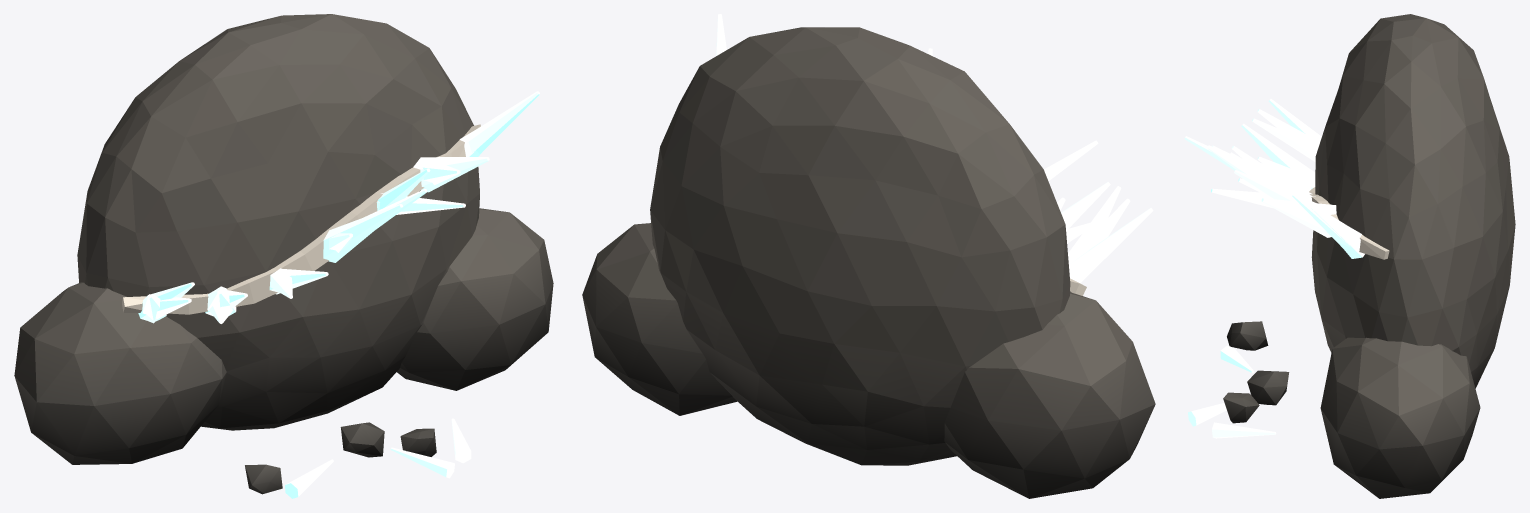
File: SM_VKI_Prop_Vein_Crystal.fbx
The picture shows the model from 3 angles, left to right: view 1: azimuth 30°, elevation 25°; view 2: azimuth 150°, elevation 25°; view 3: azimuth 270°, elevation 25°; orthographic projection. The views are drawn at different scales.
Parts seen in each view (by area): view 1: SM_VKI_Prop_Vein_Crystal.001; view 2: SM_VKI_Prop_Vein_Crystal.001; view 3: SM_VKI_Prop_Vein_Crystal.001.
Boxes of the visible parts, left/top/right/bottom form: SM_VKI_Prop_Vein_Crystal.001: left=14, top=14, right=553, bottom=498; SM_VKI_Prop_Vein_Crystal.001: left=582, top=14, right=1155, bottom=498; SM_VKI_Prop_Vein_Crystal.001: left=1184, top=14, right=1515, bottom=498.
Bounding box in the file's own units: 2.28 × 1.68 × 1.32.
